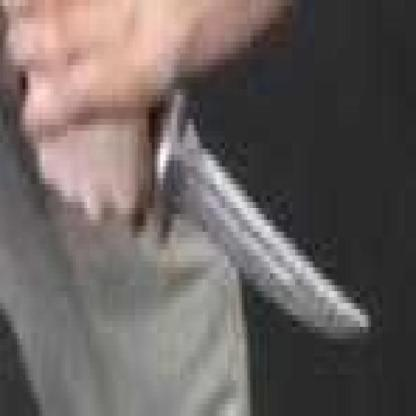Knife: (65, 44, 396, 382)
